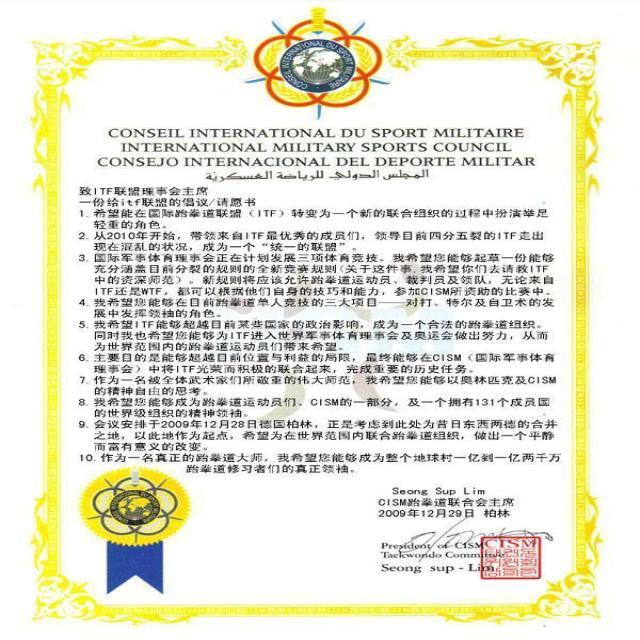signature: (394, 512, 556, 560)
